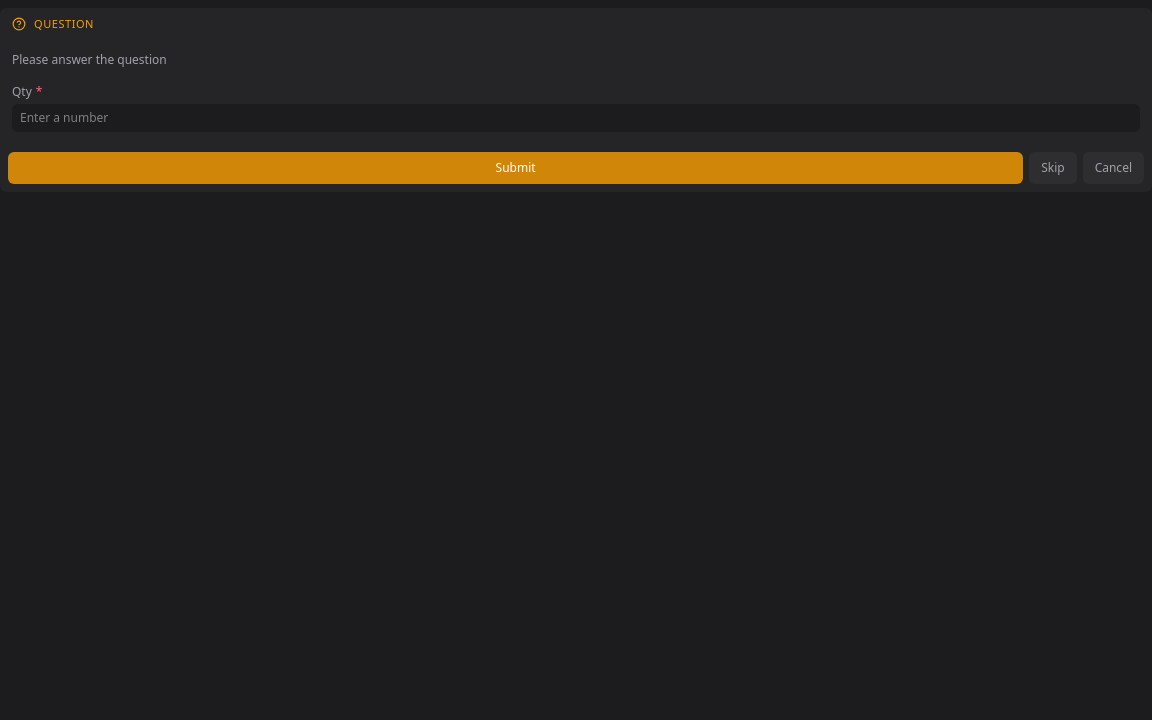
Test case: AskUserQuestionCard number / integer › blocks an empty required number
Click the button "Submit": (516, 168) [8,152,1023,184]
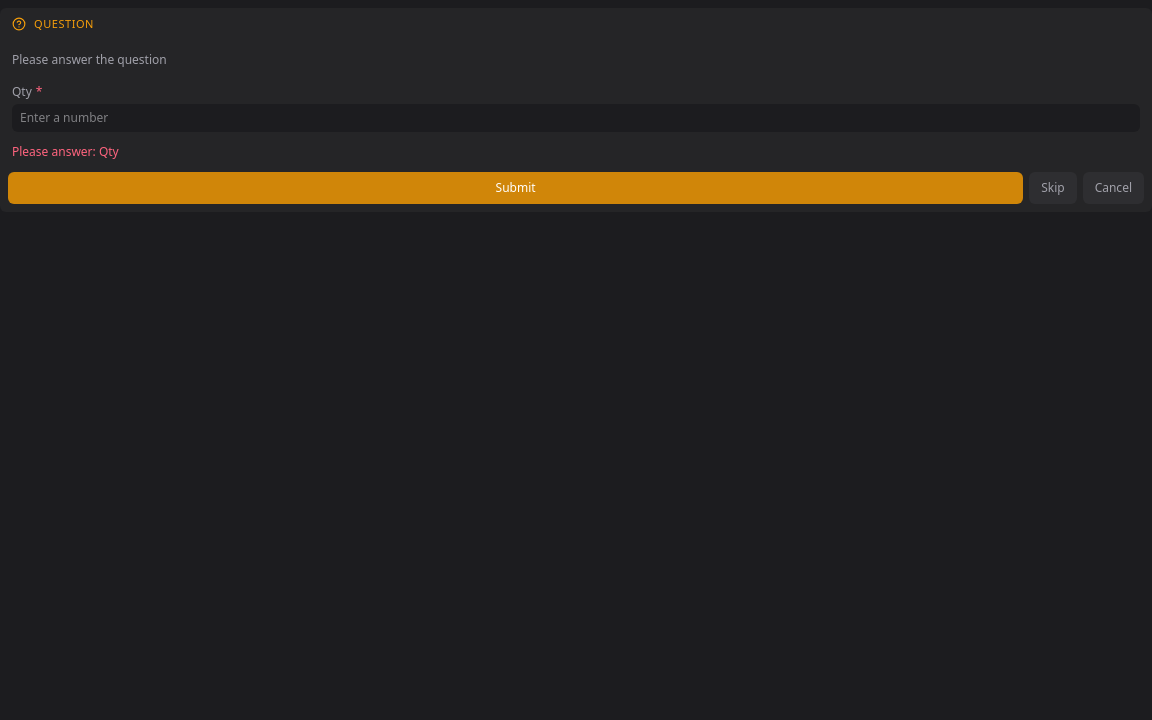
Expected: the text "Please answer: Qty" is shown, [12,143,119,160]
